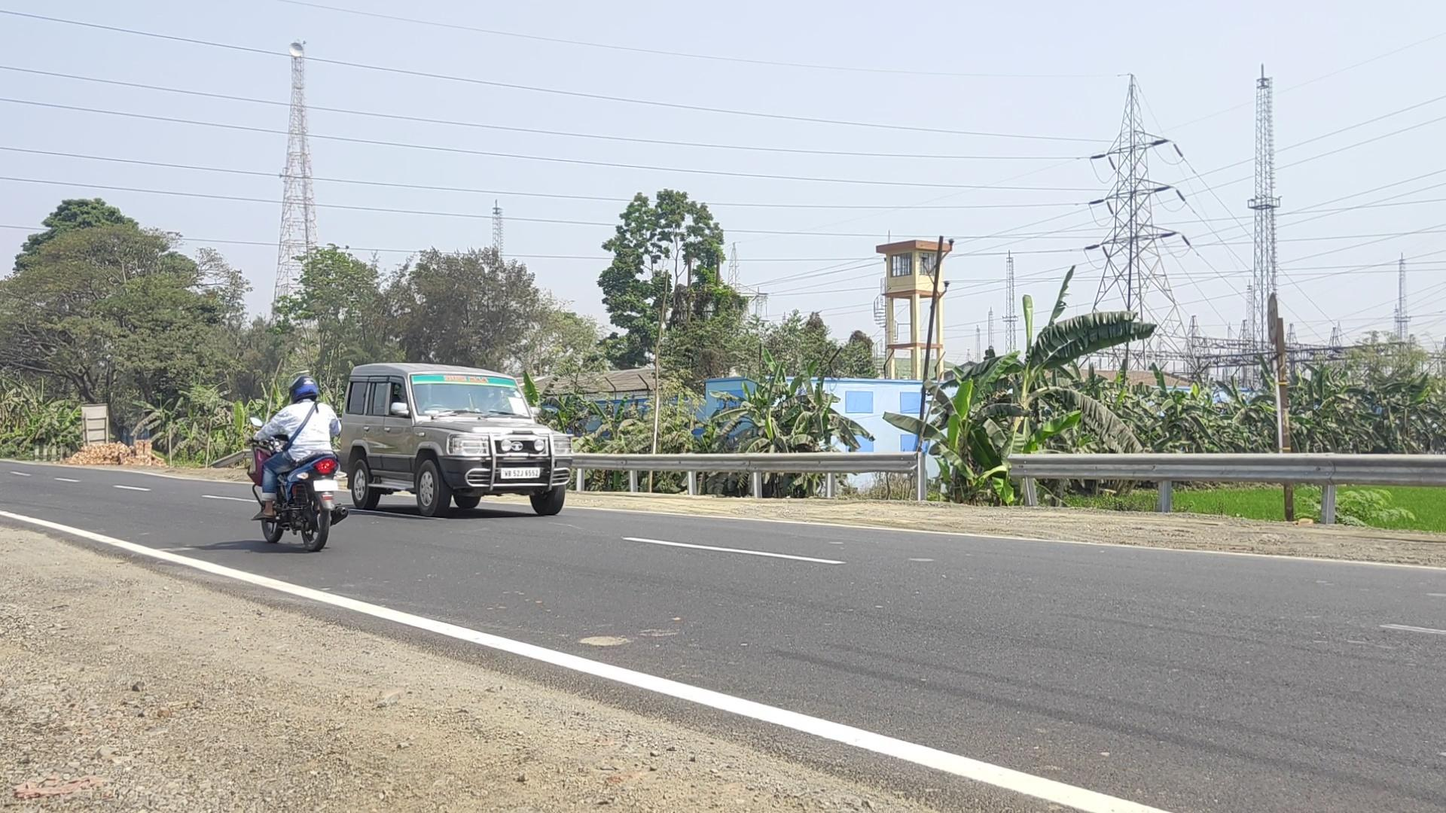bike: (250, 375, 349, 553)
car: (339, 361, 573, 520)
